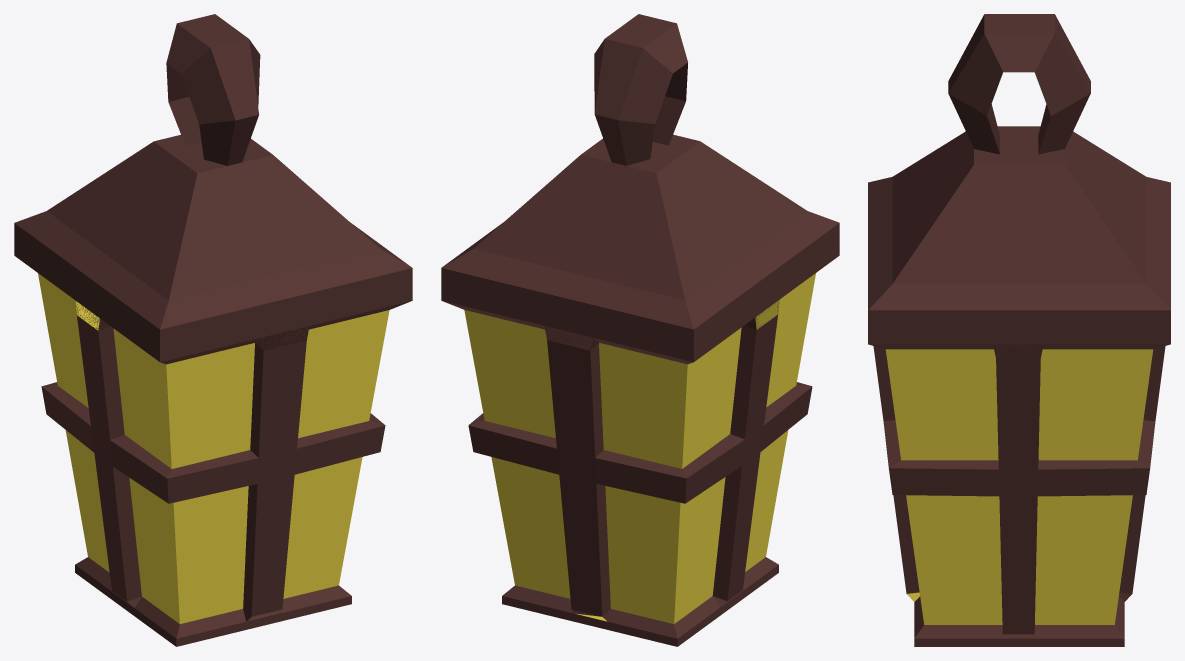
Rendered from Lantern.fbx.
The picture shows the model from 3 angles, left to right: view 1: azimuth 30°, elevation 25°; view 2: azimuth 150°, elevation 25°; view 3: azimuth 270°, elevation 25°; orthographic projection. The views are drawn at different scales.
Visible parts, largest first — view 1: Cube; view 2: Cube; view 3: Cube.
Part boxes in pixels (bbox=[...]): Cube: bbox=[14, 14, 412, 646]; Cube: bbox=[441, 14, 839, 646]; Cube: bbox=[868, 14, 1170, 646].
Bounding box in the file's own units: 30.83 × 64.96 × 30.83.
